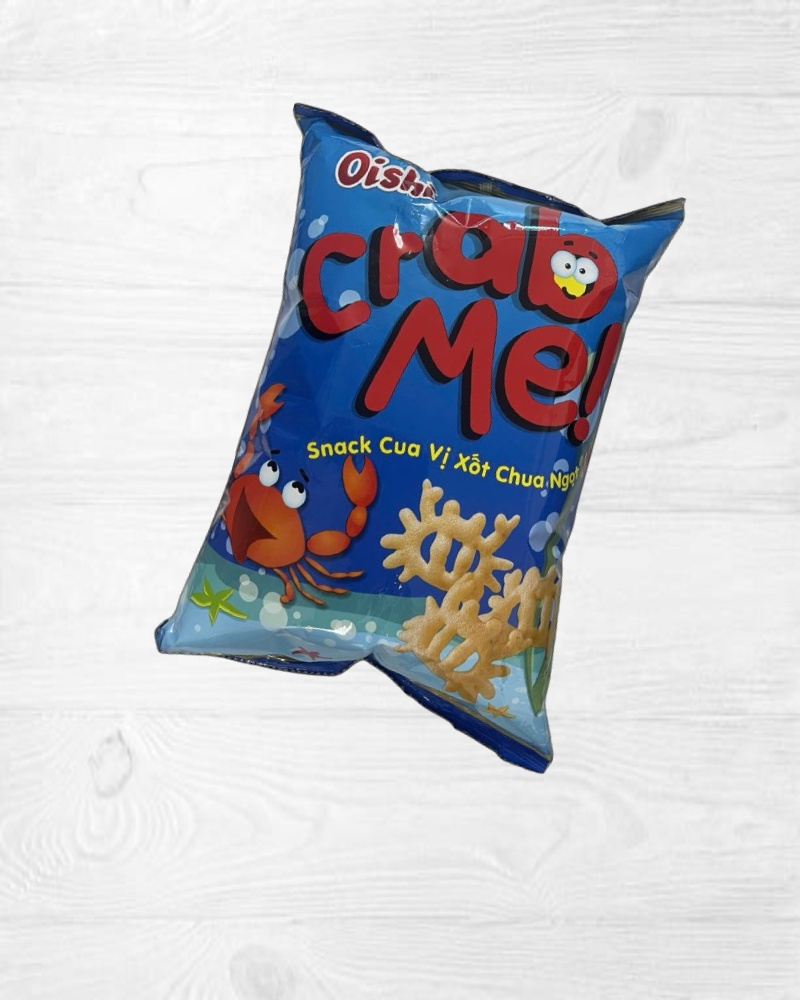Snack chay: (144, 96, 701, 778)
